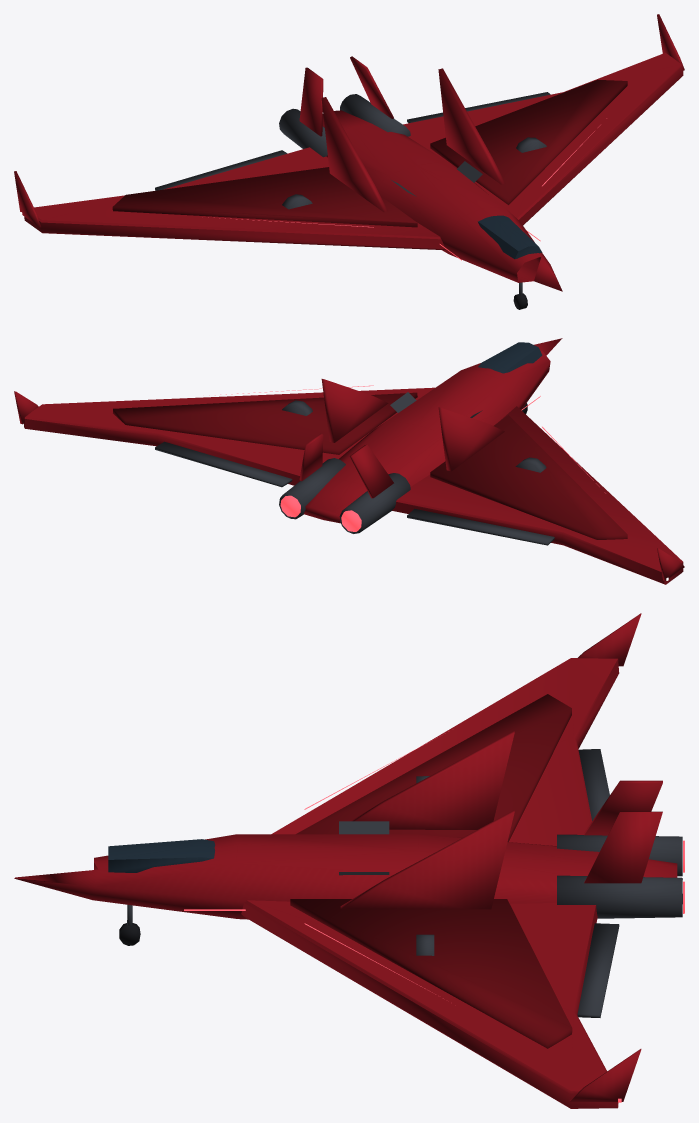
Rendered from cra1_specter_lod1.glb.
3 renders of one model, top to bottom at view 1: azimuth 30°, elevation 25°; view 2: azimuth 150°, elevation 25°; view 3: azimuth 270°, elevation 25°, orthographic. The views are drawn at different scales.
Parts seen in each view (by area): view 1: cra1_specter_LOD1; view 2: cra1_specter_LOD1; view 3: cra1_specter_LOD1.
Part boxes in pixels (x1,y1,x2,y2): cra1_specter_LOD1: (14, 14, 684, 309); cra1_specter_LOD1: (14, 338, 684, 584); cra1_specter_LOD1: (14, 613, 684, 1108).
Size of the model in its own units: 28.8 by 5.31 by 18.63.
9 materials, 9 textured.
